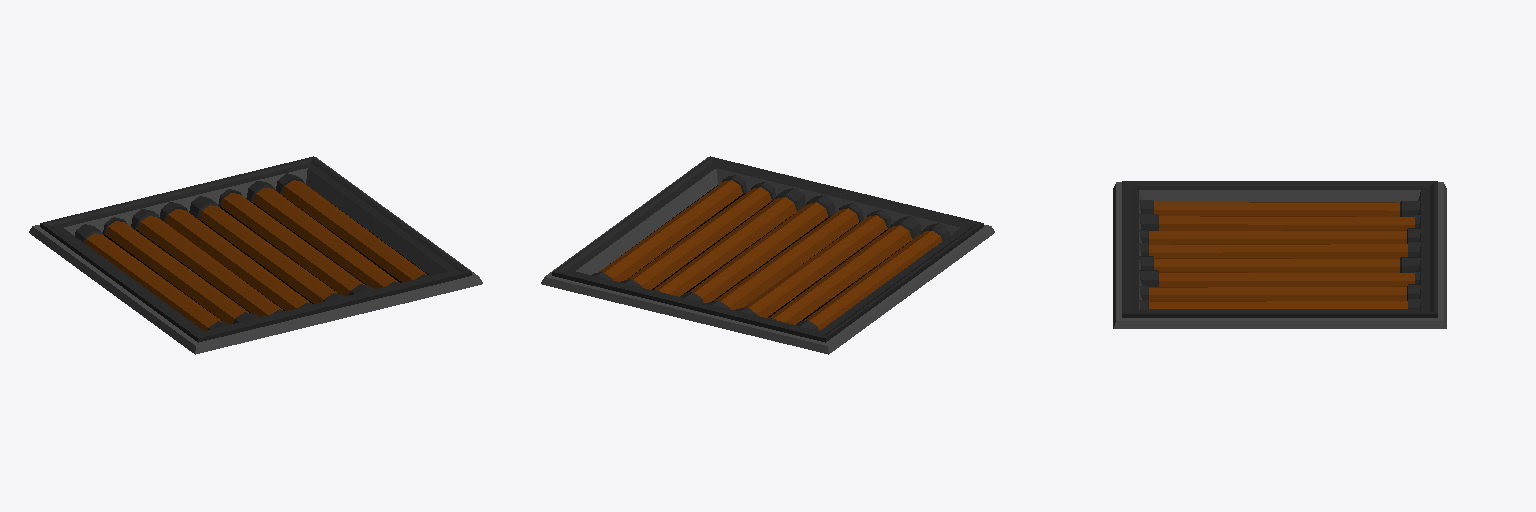
File: RoofTile_Pipes1.obj
3 renders of one model, left to right at view 1: azimuth 30°, elevation 25°; view 2: azimuth 150°, elevation 25°; view 3: azimuth 270°, elevation 25°, orthographic.
Visible parts, largest first — view 1: RoofTile_Pipes1_Plane.108; view 2: RoofTile_Pipes1_Plane.108; view 3: RoofTile_Pipes1_Plane.108.
Boxes of the visible parts, <box> form: RoofTile_Pipes1_Plane.108: <box>29,156,482,354</box>; RoofTile_Pipes1_Plane.108: <box>541,156,994,354</box>; RoofTile_Pipes1_Plane.108: <box>1113,181,1446,328</box>.
Size of the model in its own units: 2 by 0.1133 by 2.